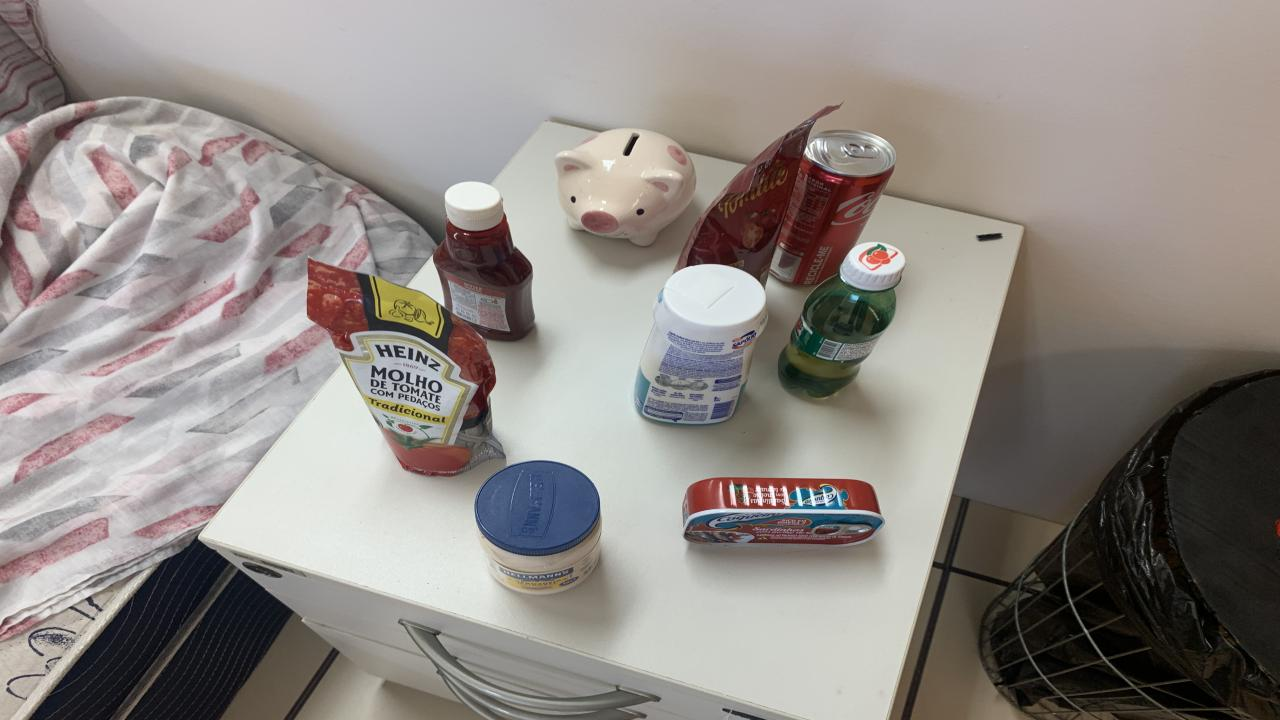Cleaner-Cleanup_Items: (635, 264, 768, 426)
Coke-Drinks: (770, 129, 898, 285)
Guarana-Drinks: (778, 242, 905, 398)
Ketchup-Pantry_Items: (432, 182, 535, 341)
Mayonnaise-Pantry_Items: (475, 461, 600, 594)
Pig_Safe-Miscellaneous: (555, 128, 695, 246)
Tomato_Sauce-Pantry_Items: (308, 261, 502, 476), (675, 105, 840, 285)
Tuna_Can-Pantry_Items: (682, 478, 885, 546)
